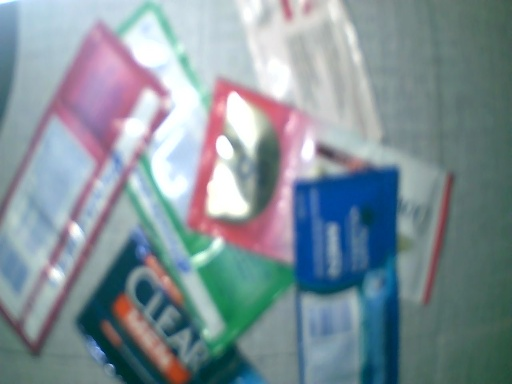plastic: (111, 7, 301, 355), (1, 27, 174, 352), (198, 82, 452, 301), (84, 228, 274, 384), (297, 167, 401, 384), (241, 3, 392, 152)
